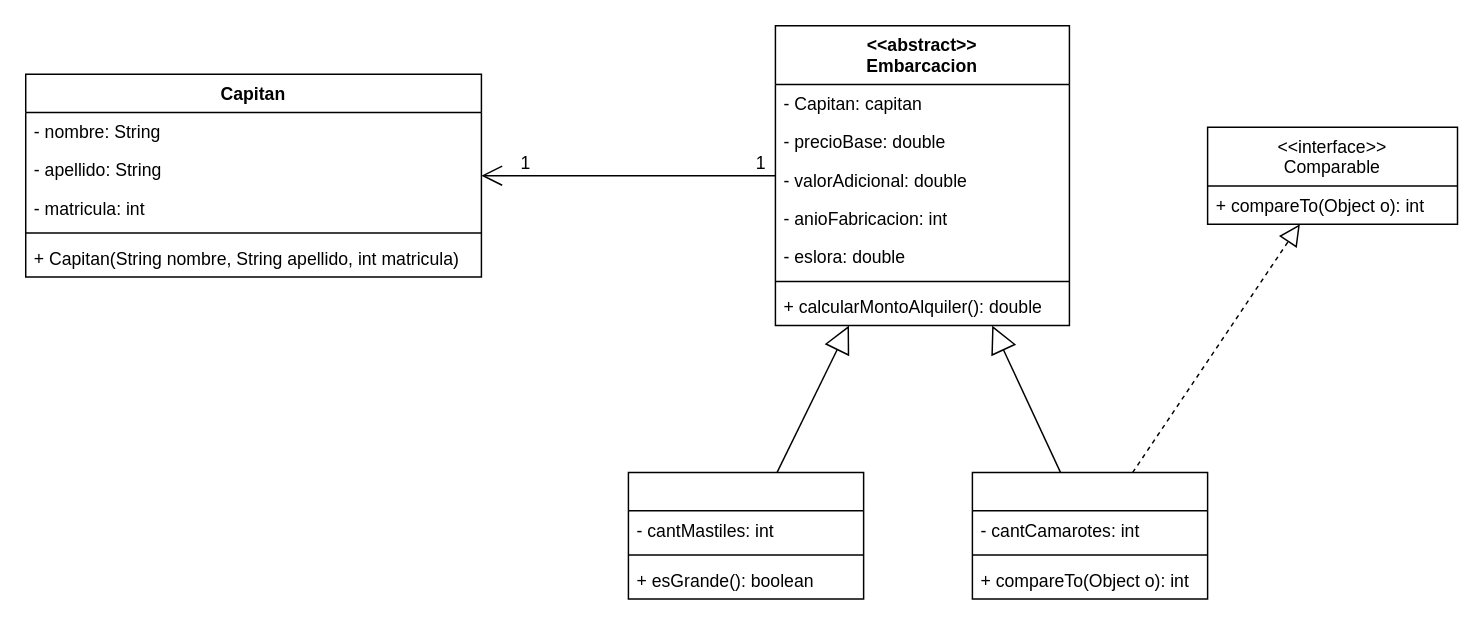
Some shapes in this 1483 by 629 pixel diagram are drawn without their labels. Each missing label, with the box of its shape:
Velero: (627, 471, 864, 599)
Yate: (971, 471, 1208, 599)
